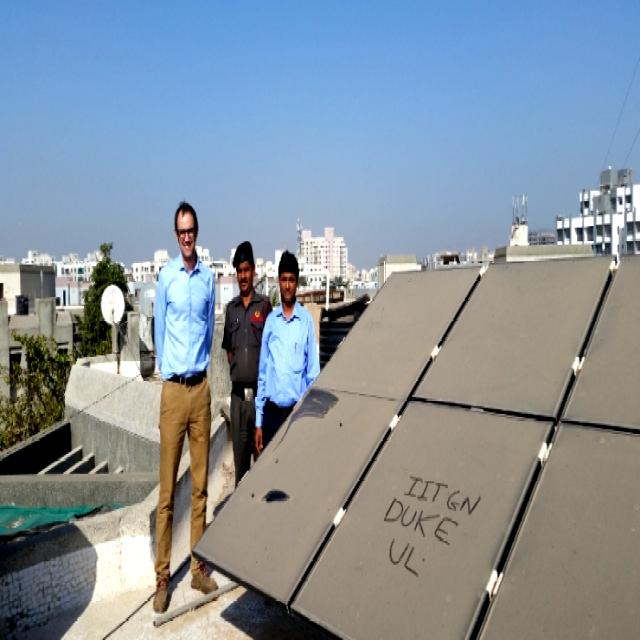dust: (364, 444, 513, 640), (546, 446, 636, 640), (495, 274, 605, 410), (374, 277, 490, 400), (254, 463, 354, 602), (294, 398, 372, 453)
